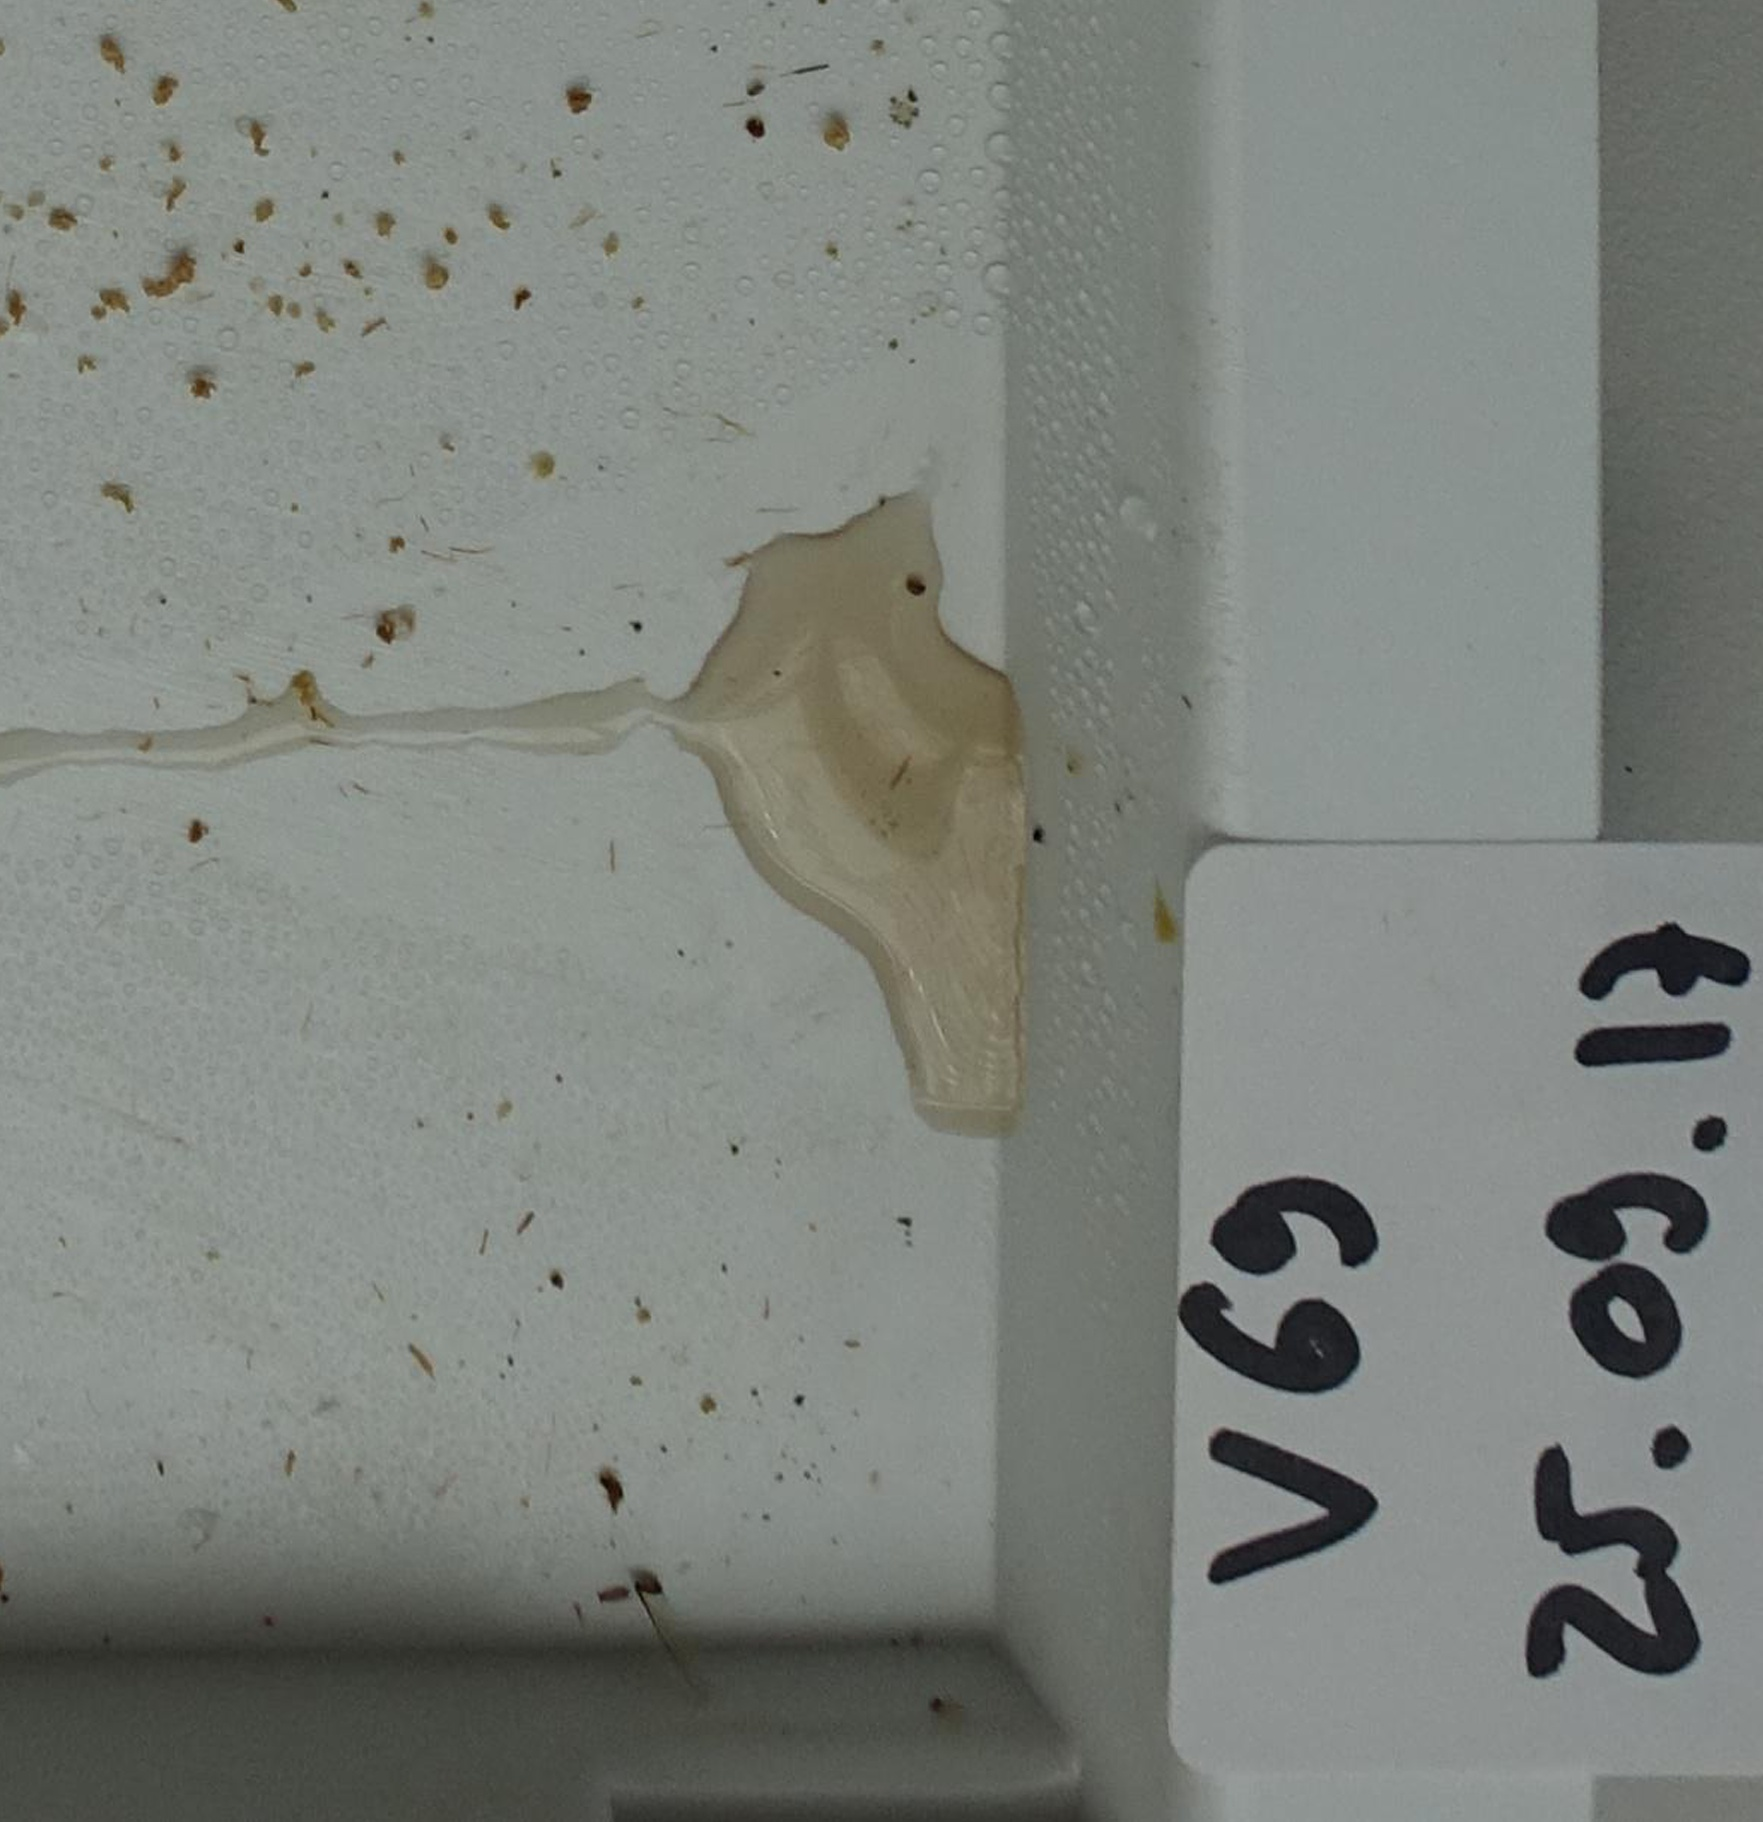Varroa: (1690, 1121, 1726, 1157)
